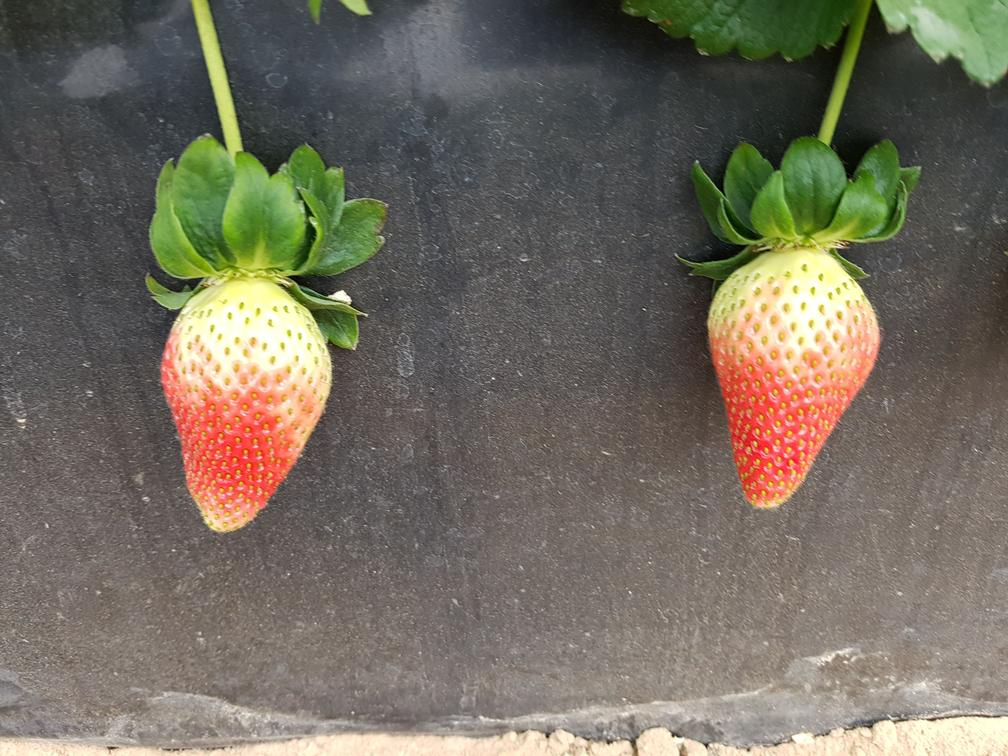Ripe: (699, 245, 892, 512)
Unripe: (154, 280, 338, 535)
